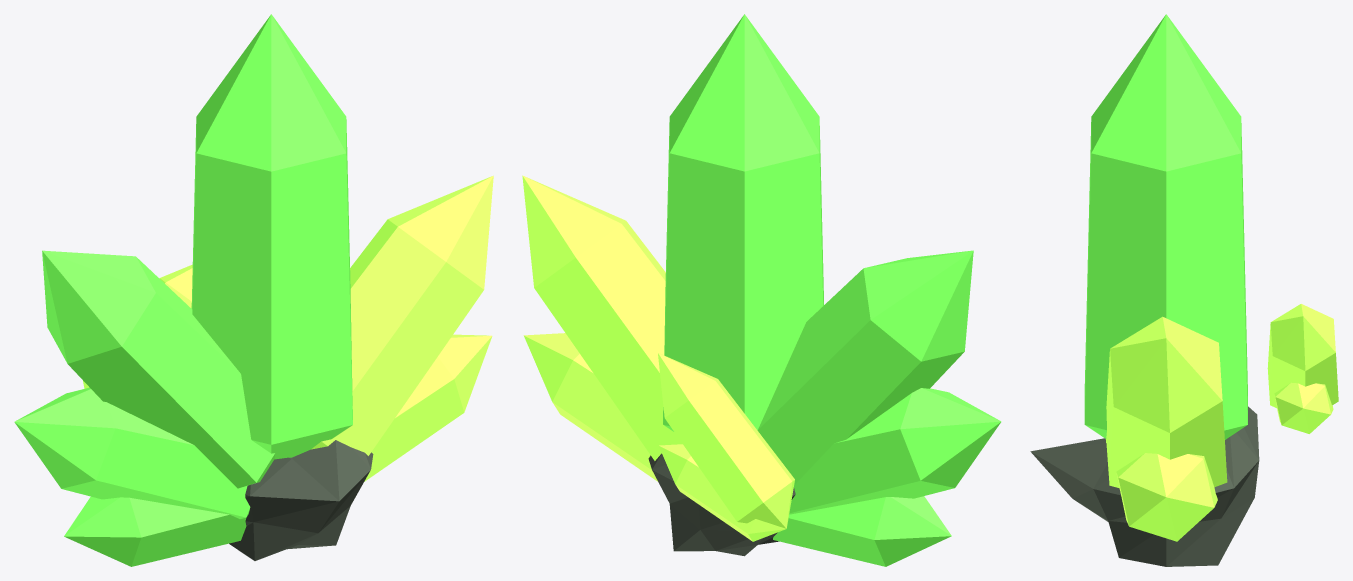
The model's file is uranium_crystal_cluster.glb.
The picture shows the model from 3 angles, left to right: view 1: azimuth 30°, elevation 25°; view 2: azimuth 150°, elevation 25°; view 3: azimuth 270°, elevation 25°; orthographic projection.
Visible parts, largest first — view 1: body/gem, body/arcane, body/iron, uranium_secondary_spikes; view 2: body/gem, body/arcane, uranium_secondary_spikes, body/iron; view 3: body/gem, body/arcane, body/iron, uranium_secondary_spikes.
Part boxes in pixels (x1,y1,x2,y2): body/gem: (14,14,352,566); body/arcane: (311,175,493,481); body/iron: (229,440,373,560); uranium_secondary_spikes: (83,264,192,388); body/gem: (663,14,1001,566); body/arcane: (522,175,682,481); uranium_secondary_spikes: (658,353,794,541); body/iron: (648,453,795,556); body/gem: (1084,14,1247,439); body/arcane: (1105,316,1227,541); body/iron: (1030,406,1259,566); uranium_secondary_spikes: (1267,304,1338,433).
Bounding box in the file's own units: 2.26 × 2.45 × 1.26.
